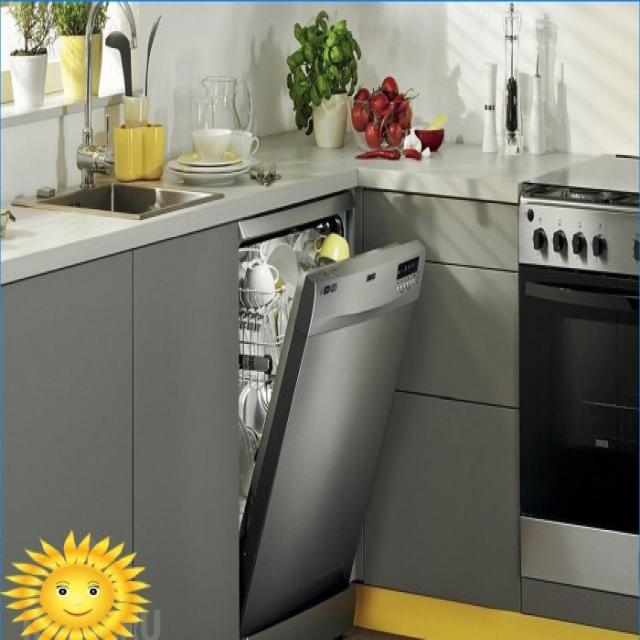dishwasher: (234, 200, 426, 640)
